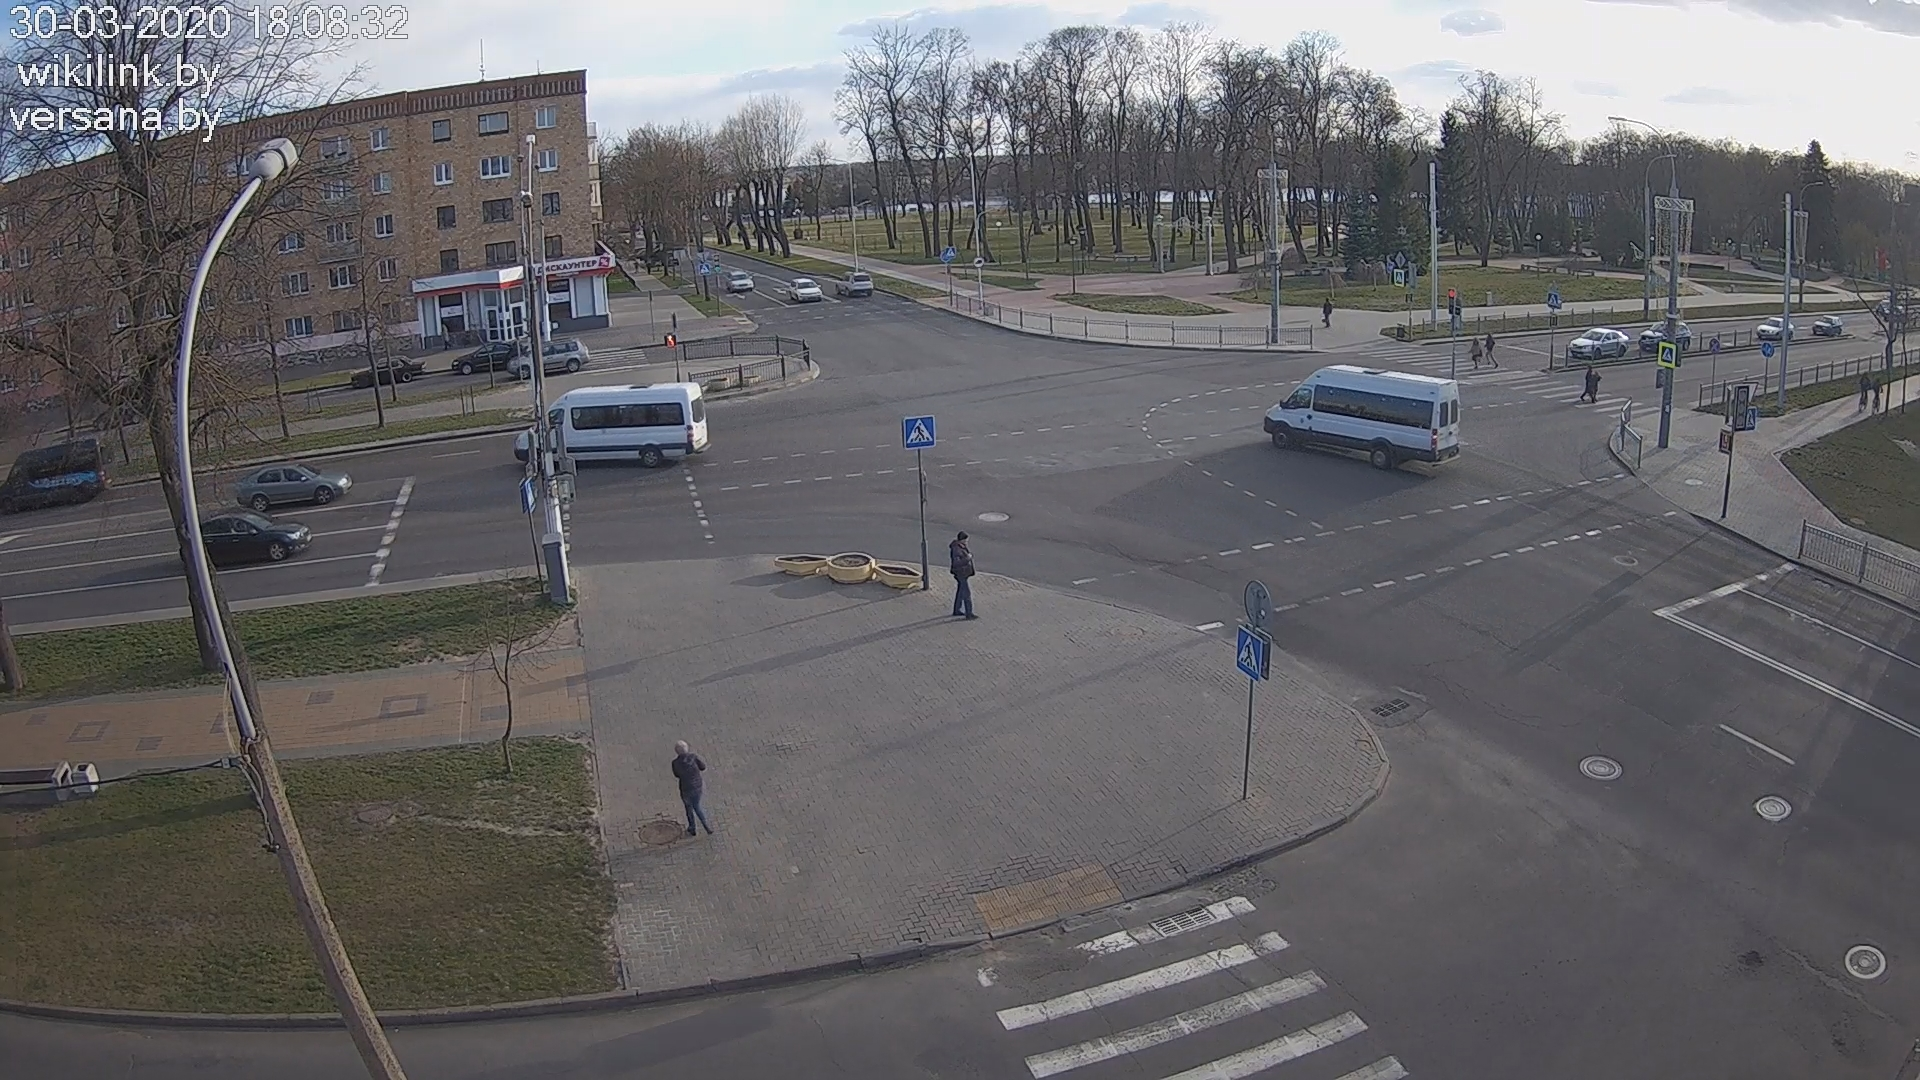car: (1265, 364, 1461, 471), (513, 381, 709, 469), (183, 512, 313, 564), (235, 462, 352, 512), (506, 336, 589, 378), (451, 342, 524, 375), (351, 355, 426, 386), (1569, 328, 1630, 360), (1636, 320, 1691, 352), (1756, 316, 1795, 342), (835, 272, 873, 295), (789, 278, 822, 302), (727, 270, 754, 291)
